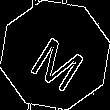M_NE: (22, 21, 88, 89)
